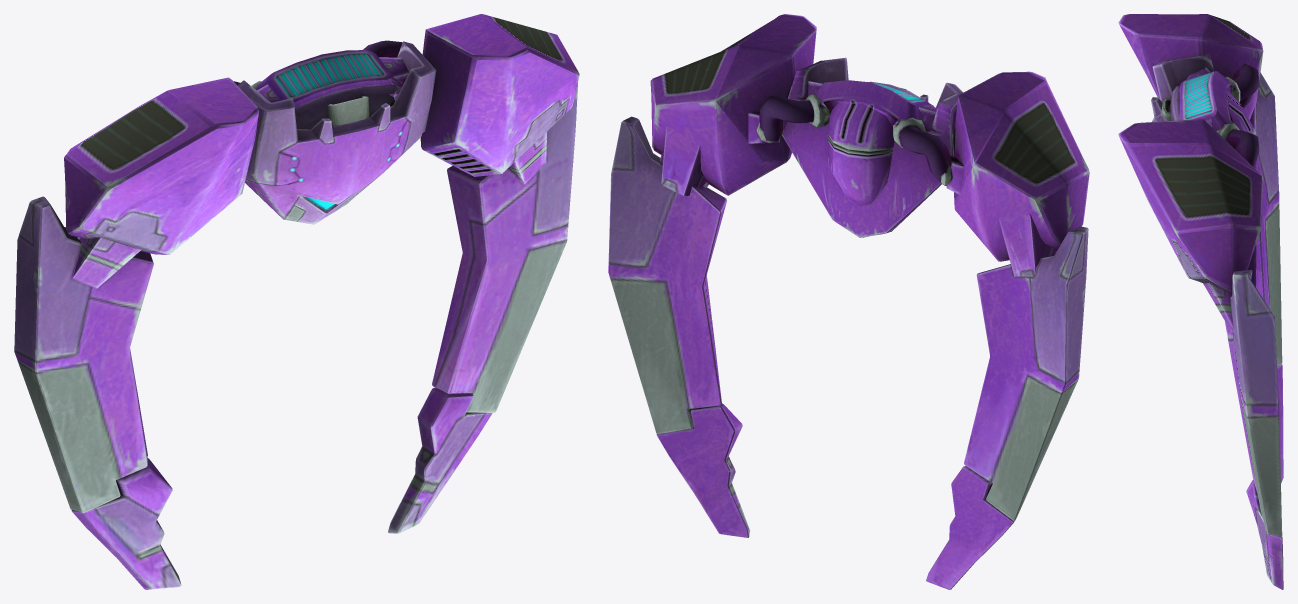
File: enemy_ship.obj
3 views of the same model, side by side, from view 1: azimuth 30°, elevation 25°; view 2: azimuth 150°, elevation 25°; view 3: azimuth 270°, elevation 25° (orthographic). The views are drawn at different scales.
Parts seen in each view (by area): view 1: vehicle_enemyShip; view 2: vehicle_enemyShip; view 3: vehicle_enemyShip.
Boxes of the visible parts, box(x1,y1,x2,y2) form: vehicle_enemyShip: box(14, 14, 579, 589); vehicle_enemyShip: box(608, 14, 1089, 589); vehicle_enemyShip: box(1118, 14, 1283, 589).
Bounding box in the file's own units: 150 × 142 × 46.54.
2 materials, 2 textured.
